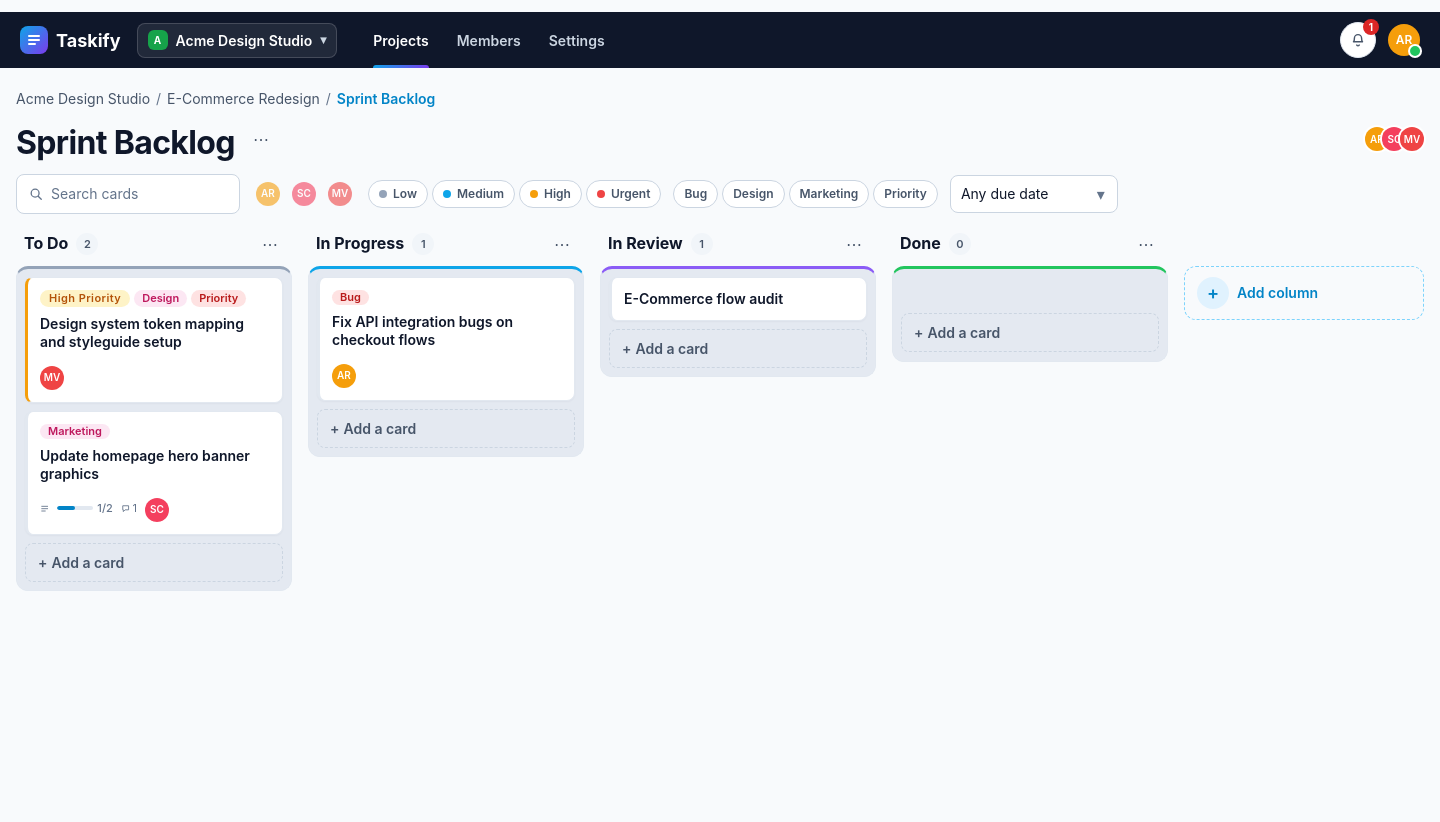
Test: board filters › narrows the board as you type and says how many cards are shown
Expected: the button "Bug Fix API integration bugs on checkout flows AR" is shown, [317,277,575,401]
Type "API integration" into the search field labelled "Search cards" at (139, 194), box [51,176,227,212]
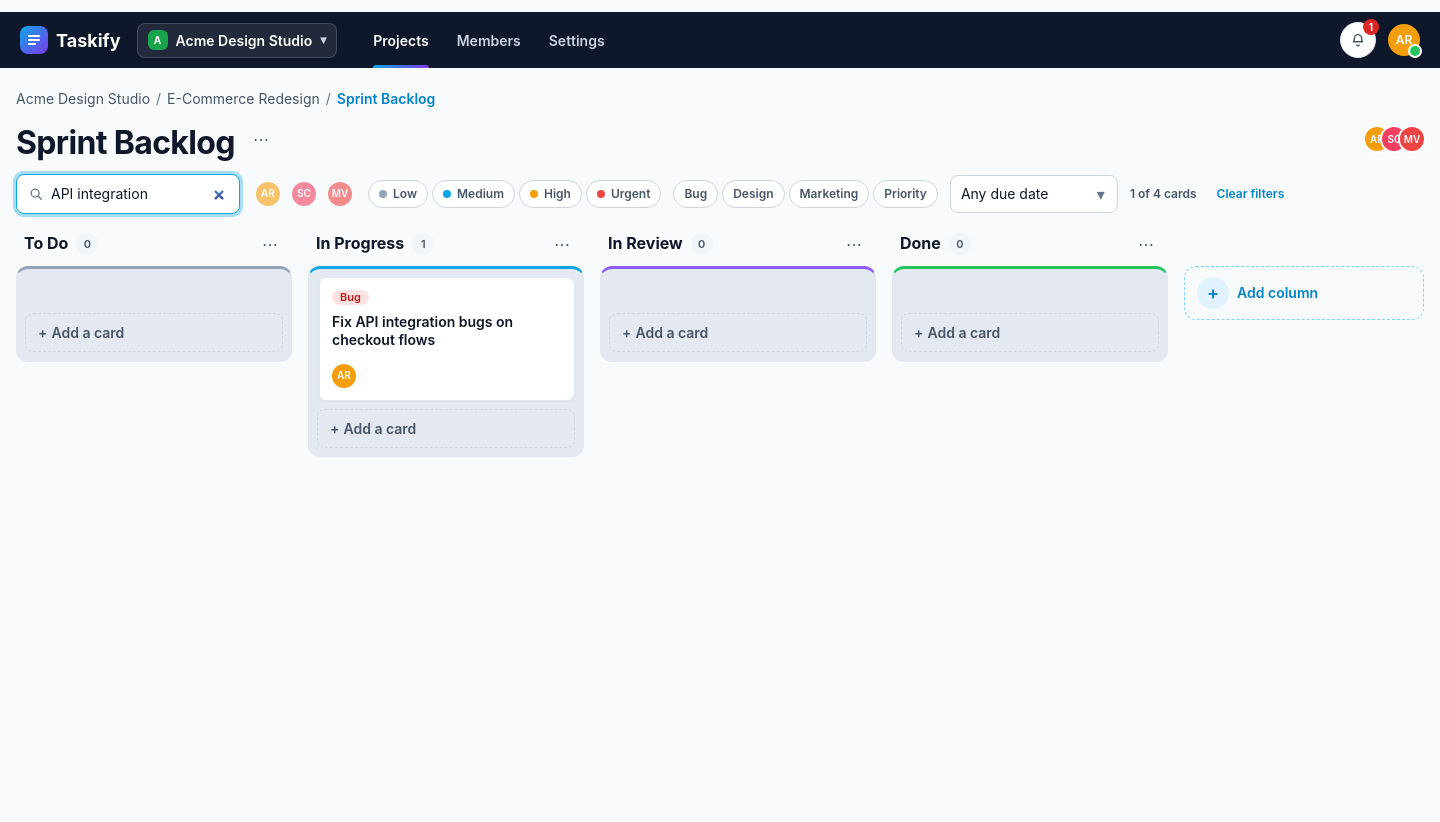
Expected: the button "Bug Fix API integration bugs on checkout flows AR" is shown, [317,277,575,401]
Expected: the text "1 of 4 cards" is shown, [1130,185,1197,203]
Click the button "Clear filters" at (1250, 194), box [1209,181,1292,207]
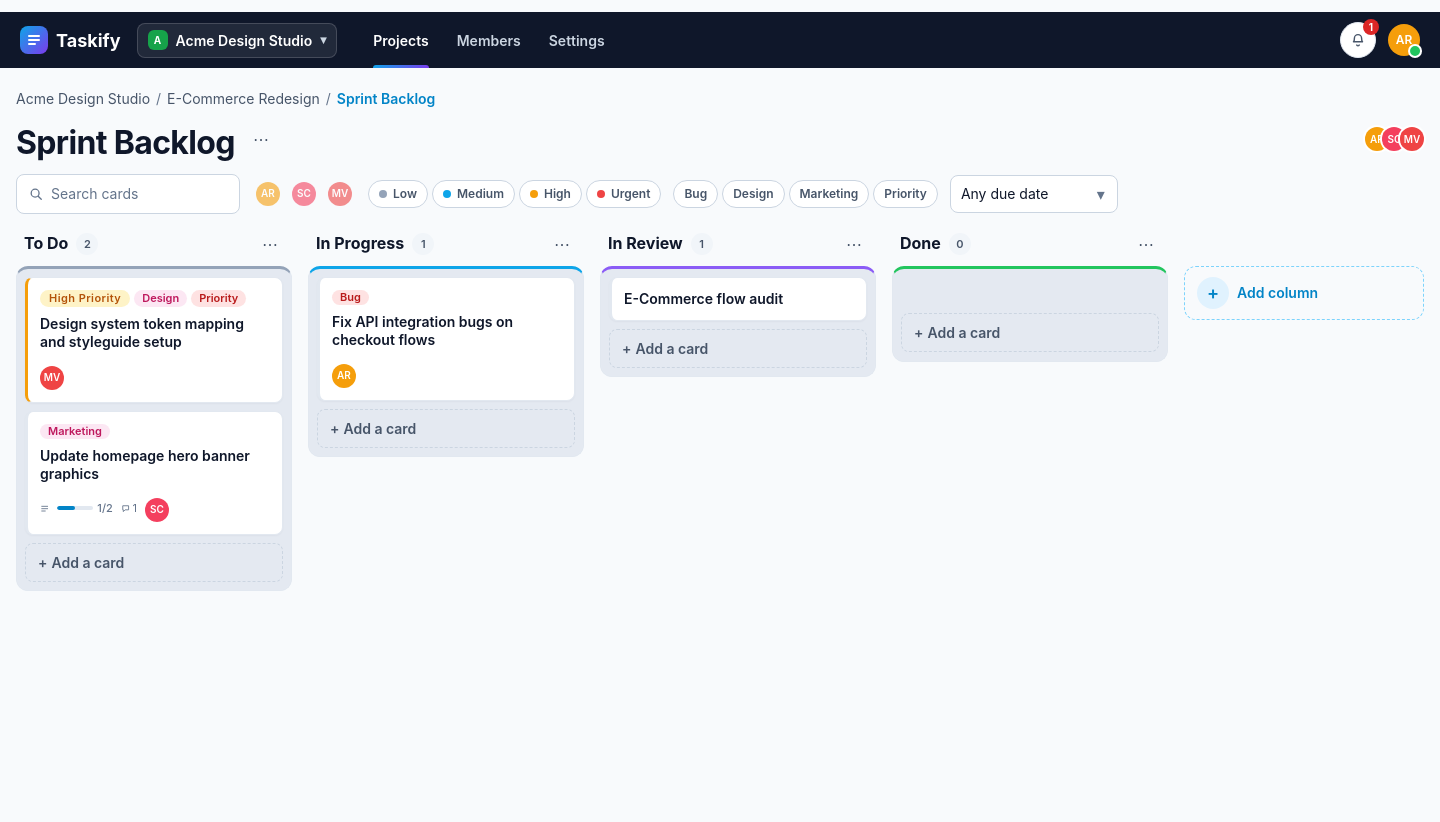
Expected: the text "1 of 4 cards" is gone
